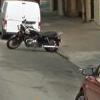Motorcycle: (3, 19, 67, 58)
